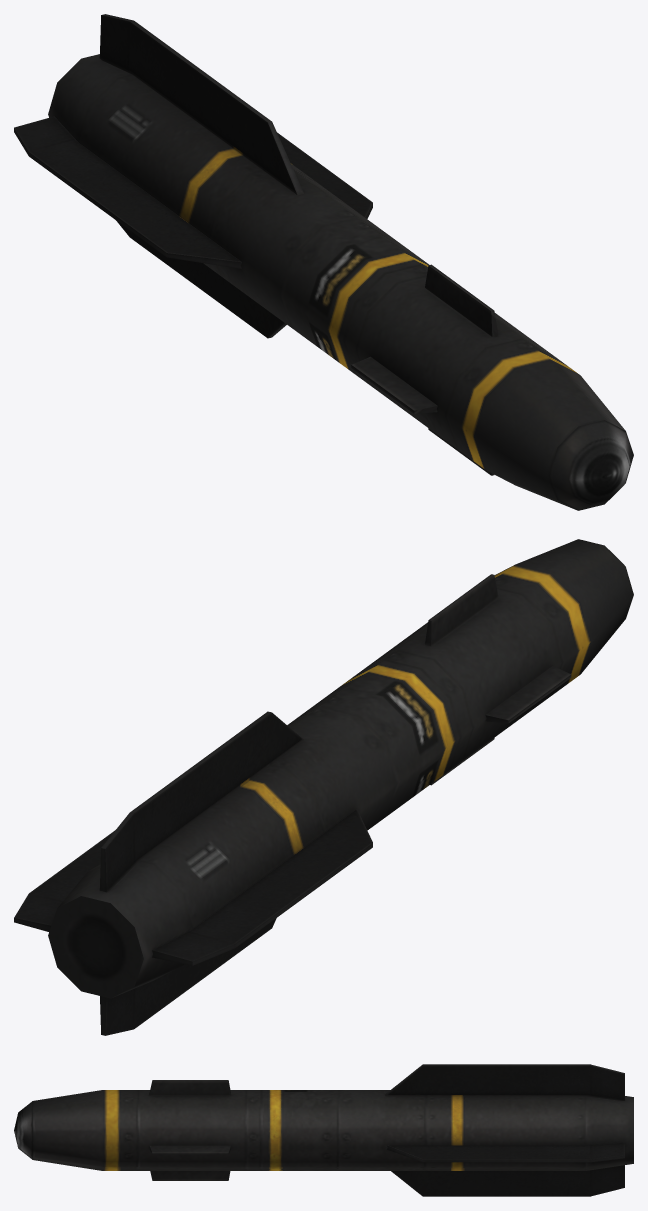
Rendered from HELLFIRE.FBX.
3 views of the same model, one above another, from view 1: azimuth 30°, elevation 25°; view 2: azimuth 150°, elevation 25°; view 3: azimuth 270°, elevation 25° (orthographic). The views are drawn at different scales.
Parts seen in each view (by area): view 1: HH60_Missile; view 2: HH60_Missile; view 3: HH60_Missile.
Boxes of the visible parts, x1,y1,x2,y2 form: HH60_Missile: (14,14,633,510); HH60_Missile: (14,539,633,1035); HH60_Missile: (14,1064,633,1196).
Bounding box in the file's own units: 22.71 × 22.71 × 97.42.
1 material, 1 textured.
